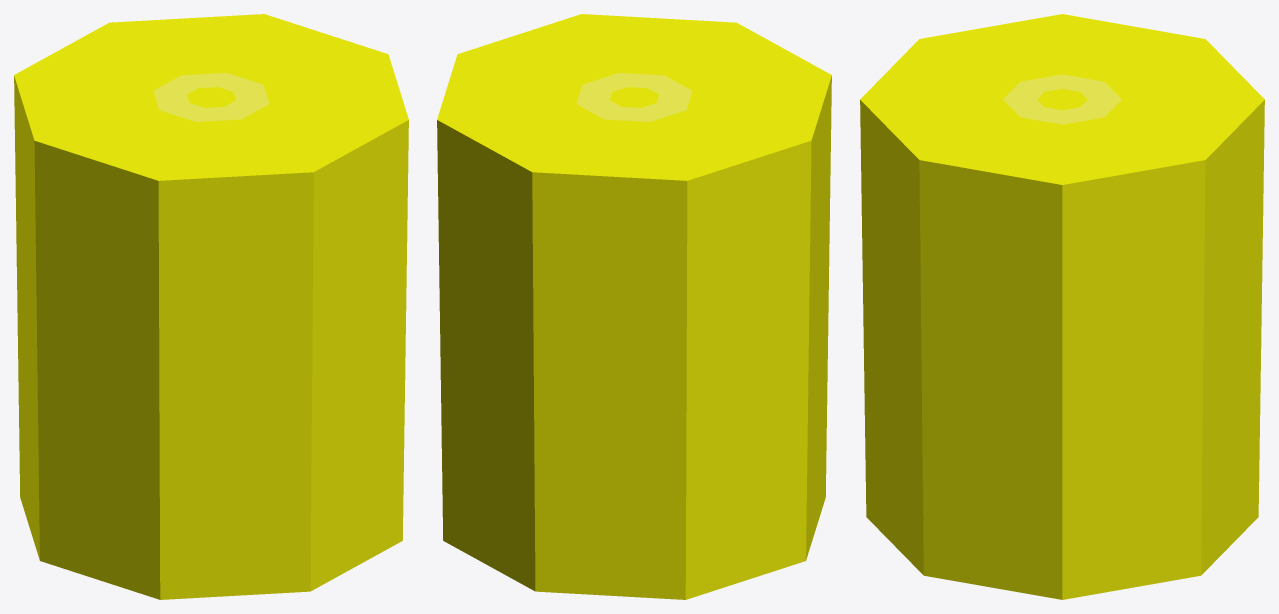
File: pineapple03.gltf
The picture shows the model from 3 angles, left to right: view 1: azimuth 30°, elevation 25°; view 2: azimuth 150°, elevation 25°; view 3: azimuth 270°, elevation 25°; orthographic projection.
Parts seen in each view (by area): view 1: Cylinder; view 2: Cylinder; view 3: Cylinder.
Boxes of the visible parts, x1,y1,x2,y2 form: Cylinder: (14, 14, 408, 599); Cylinder: (437, 14, 831, 599); Cylinder: (860, 14, 1264, 599).
Size of the model in its own units: 0.1077 by 0.1226 by 0.1077.
1 material, 1 textured.
